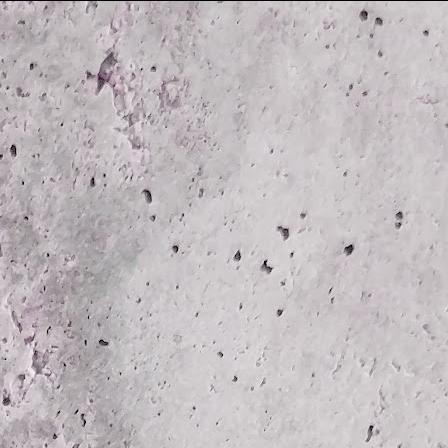spalling: (85, 34, 157, 183)
